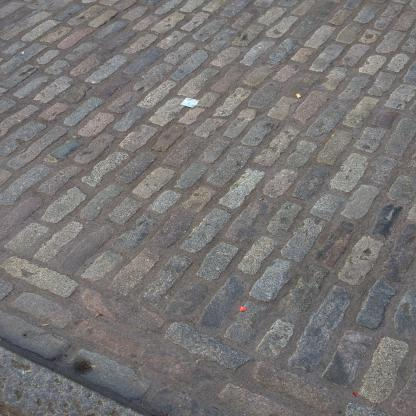plastik: (181, 99, 201, 110)
